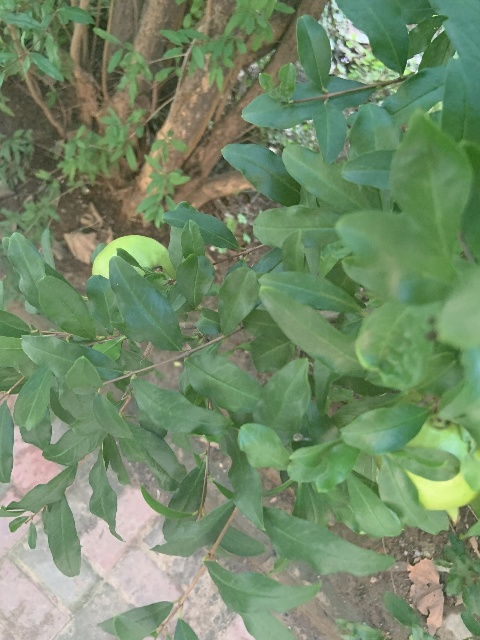mid-growth: (372, 417, 478, 527), (91, 234, 176, 280)
